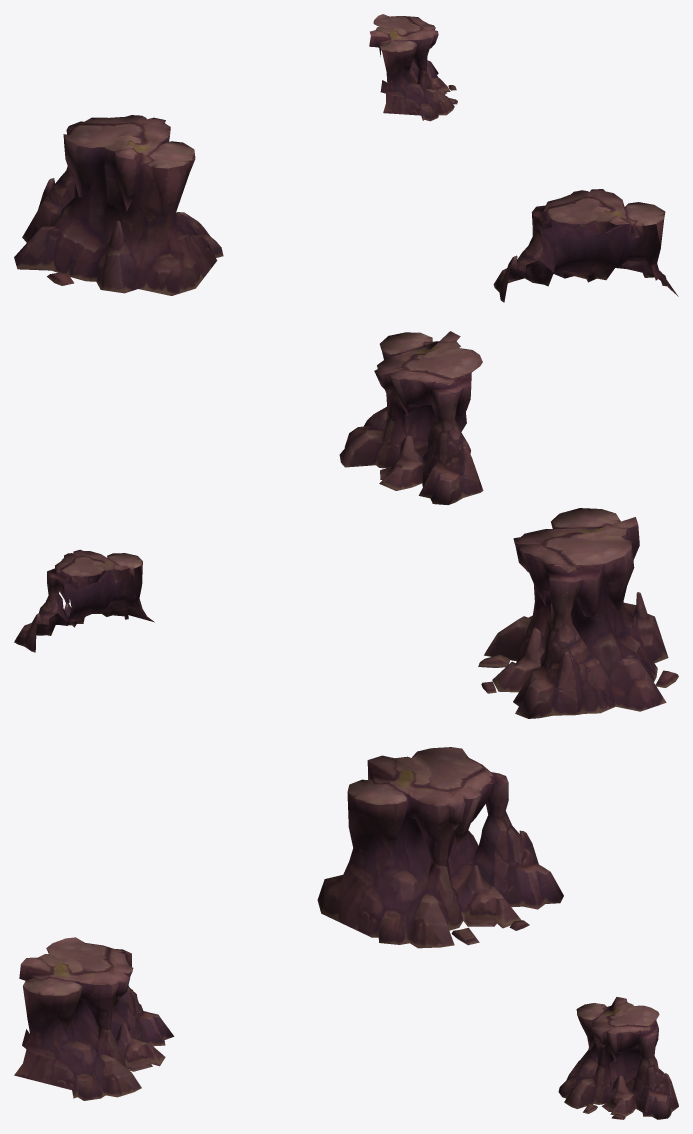
File: zrea12_shiqiang_01.FBX
The picture shows the model from 3 angles, top to bottom: view 1: azimuth 30°, elevation 25°; view 2: azimuth 150°, elevation 25°; view 3: azimuth 270°, elevation 25°; orthographic projection. The views are drawn at different scales.
Parts seen in each view (by area): view 1: zrea12_shiqiang_01; view 2: zrea12_shiqiang_01; view 3: zrea12_shiqiang_01.
Part boxes in pixels (box(x1,y1,x2,y2)): zrea12_shiqiang_01: box(14, 14, 678, 302); zrea12_shiqiang_01: box(14, 331, 678, 718); zrea12_shiqiang_01: box(14, 747, 678, 1119).
Size of the model in its own units: 3400 by 793 by 3569.
